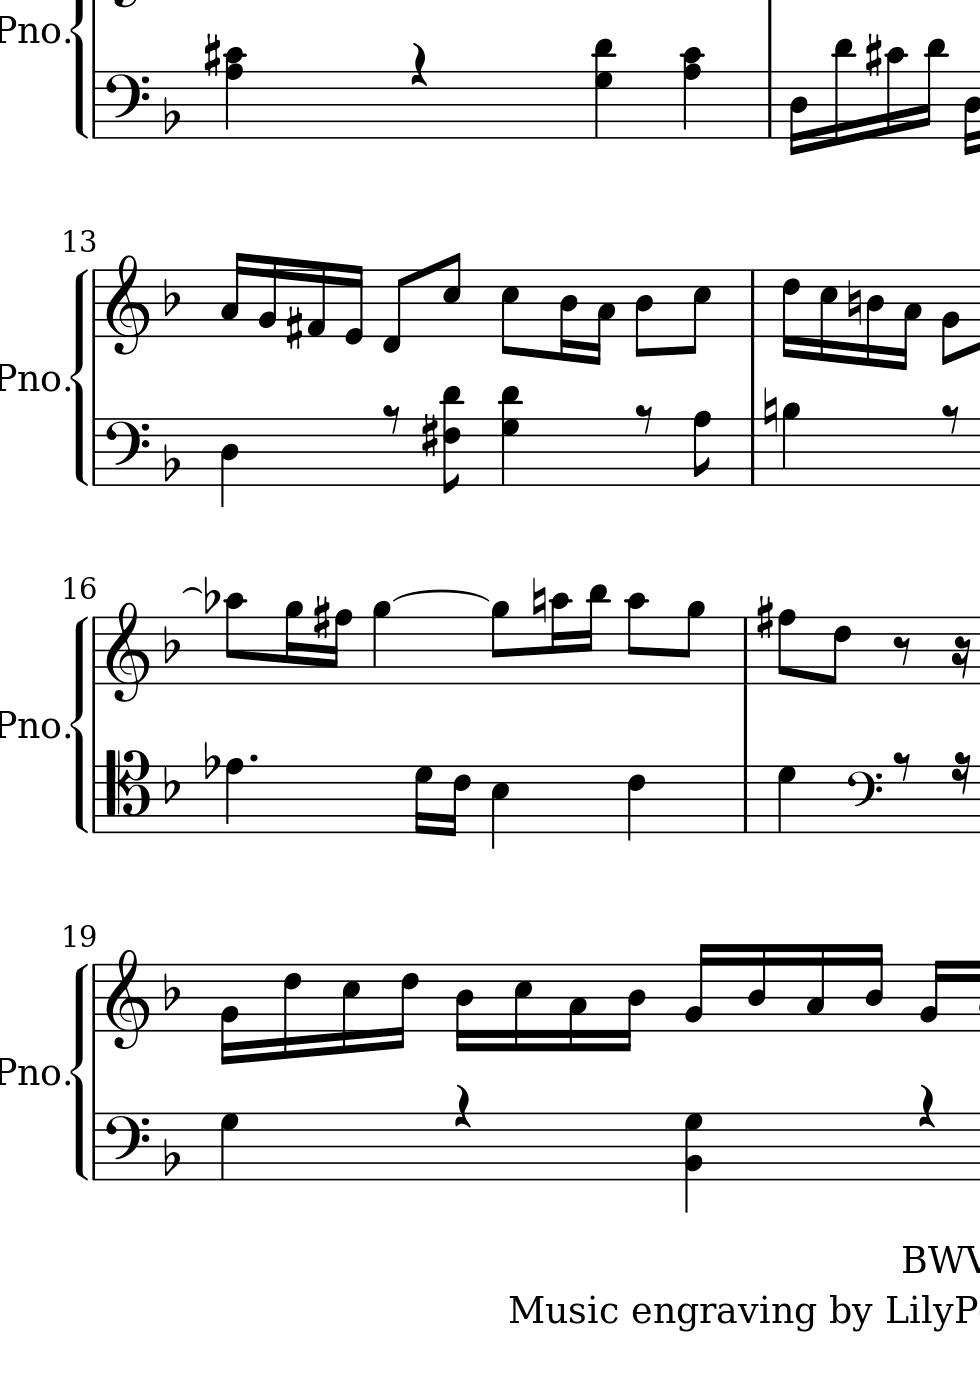1: (62, 922, 76, 950), (62, 228, 76, 256), (62, 575, 76, 602)
16_0: (342, 262, 365, 346)
16_1: (307, 259, 328, 340)
16_10: (548, 590, 571, 687), (883, 45, 906, 139)
16_11: (917, 36, 947, 142), (578, 582, 608, 688), (832, 37, 853, 150)
16_2: (683, 942, 712, 1033), (918, 958, 946, 1033), (218, 963, 239, 1065), (256, 253, 279, 338)
16_3: (587, 268, 615, 367), (895, 267, 921, 372), (217, 250, 246, 337), (802, 940, 828, 1033), (566, 962, 588, 1053)
16_4: (618, 962, 646, 1054), (745, 942, 768, 1033), (453, 962, 475, 1054), (863, 941, 885, 1033), (558, 268, 578, 363), (787, 70, 808, 156), (865, 268, 883, 369)
16_5: (339, 961, 361, 1055), (512, 962, 533, 1054), (818, 267, 837, 363)
16_6: (387, 961, 419, 1051), (280, 961, 303, 1060), (780, 267, 801, 359), (445, 764, 471, 838), (962, 69, 980, 158)
16_7: (412, 764, 433, 837)
16_8: (323, 607, 352, 686)
16_9: (283, 600, 303, 686)
3: (78, 227, 97, 255)
4_2_7: (683, 1111, 703, 1215)
4_4: (218, 417, 240, 508)
4_5: (489, 764, 510, 850)
4_6: (624, 764, 647, 844)
4_7: (775, 764, 798, 835), (218, 1111, 240, 1182)
4_7_11: (590, 37, 616, 141), (498, 385, 521, 487)
4_8: (223, 756, 244, 836)
4_8_10: (222, 46, 248, 140), (680, 46, 705, 141)
4_9: (369, 600, 392, 686), (778, 400, 800, 488)
6: (78, 574, 97, 601)
8_-1: (380, 267, 412, 355)
8_10: (623, 591, 649, 686), (222, 592, 247, 685)
8_2: (941, 269, 959, 366)
8_4: (633, 268, 654, 359)
8_5: (683, 268, 711, 357), (441, 251, 462, 338), (498, 268, 519, 358)
8_6: (823, 615, 852, 686)
8_6_11: (439, 385, 462, 494)
8_8: (775, 607, 797, 687), (690, 410, 711, 488)
8_9: (676, 601, 705, 687), (488, 600, 511, 686)
9: (78, 922, 97, 950)
Brace: (69, 263, 90, 489), (70, 611, 91, 834), (68, 957, 88, 1183)
Fclef: (102, 69, 148, 141), (102, 416, 148, 488), (102, 1110, 148, 1181), (844, 764, 882, 834)
Flat: (161, 765, 181, 807), (161, 622, 180, 665), (161, 443, 181, 483), (162, 278, 182, 317), (161, 97, 180, 136), (161, 1137, 179, 1177), (161, 972, 179, 1011), (202, 740, 217, 782), (203, 575, 218, 615)
Gclef: (104, 947, 148, 1050), (105, 253, 148, 356), (105, 600, 148, 703)
Natural: (530, 576, 547, 626), (762, 385, 777, 436), (845, 278, 862, 326)
Pno: (1, 12, 62, 48), (1, 358, 62, 393), (1, 707, 62, 741), (1, 1053, 62, 1087)
Rests16: (949, 751, 972, 797), (950, 635, 972, 680)
Rests4: (452, 1082, 473, 1129), (916, 1082, 937, 1128), (409, 41, 428, 88)
Rests8: (891, 749, 913, 783), (381, 402, 402, 436), (633, 402, 654, 436), (892, 634, 913, 668), (939, 403, 961, 435)
Sharp: (753, 594, 774, 641), (863, 31, 883, 80), (200, 32, 221, 80), (419, 413, 439, 460), (311, 594, 330, 639), (284, 304, 302, 352)
Single_barline: (736, 766, 754, 832), (743, 271, 762, 337), (762, 71, 778, 139), (745, 419, 762, 484), (87, 270, 103, 338), (87, 72, 103, 139), (87, 617, 102, 685), (88, 419, 103, 486), (87, 767, 102, 834), (87, 965, 102, 1032), (87, 1115, 102, 1181), (737, 618, 752, 684)
Slur: (393, 587, 488, 604)
Tensor_Cclef: (103, 749, 148, 834)
dot: (246, 752, 259, 765)
